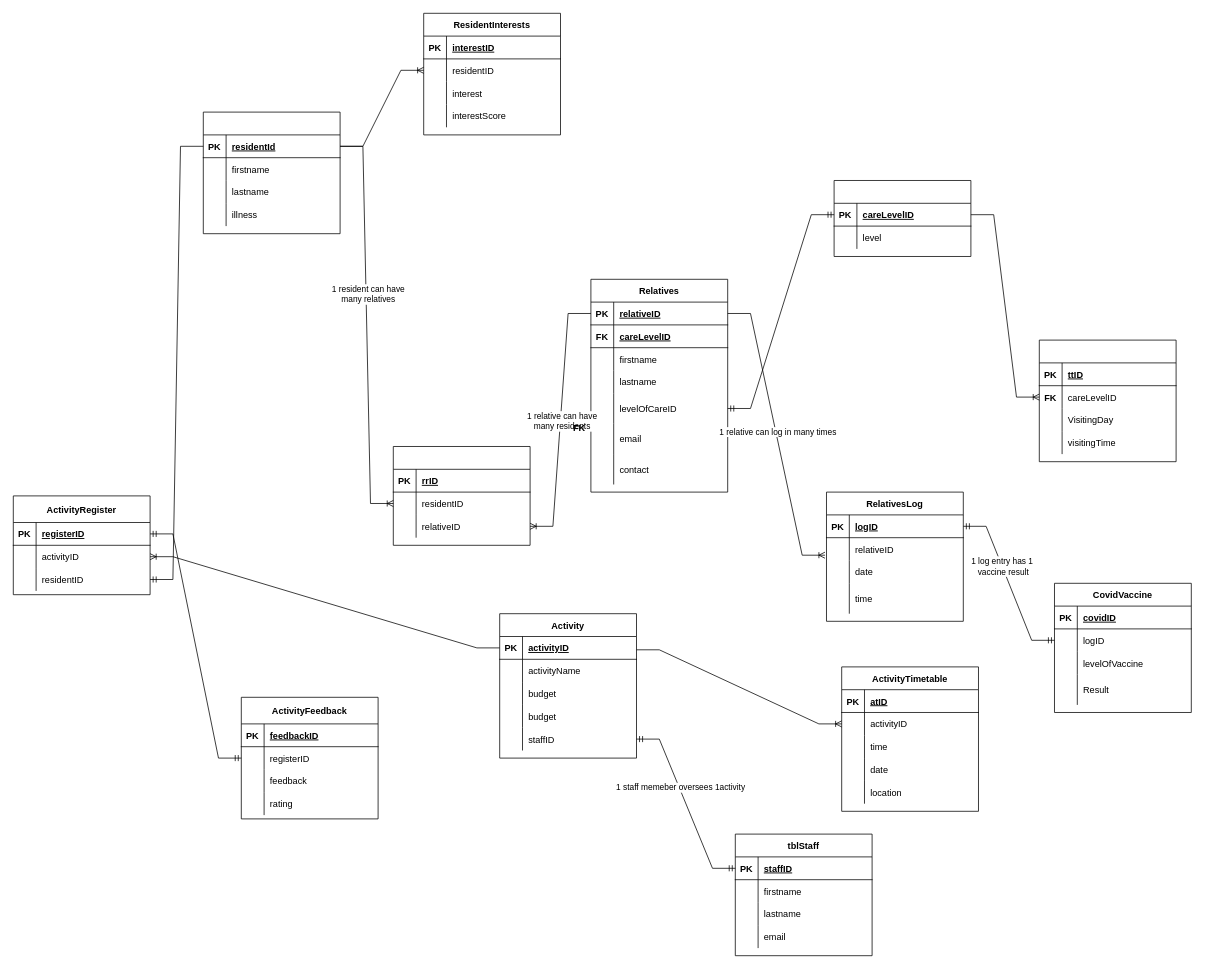
Some shapes in this 1205 by 969 pixel diagram are drawn without their labels. Here are the shapes that lost their labels. From the top down, the box of each, then its label:
(203, 111, 340, 234): Residents
(833, 180, 971, 256): LevelOfCare
(1039, 339, 1176, 462): RelativeTimetable
(393, 446, 530, 545): RelativesResidents
